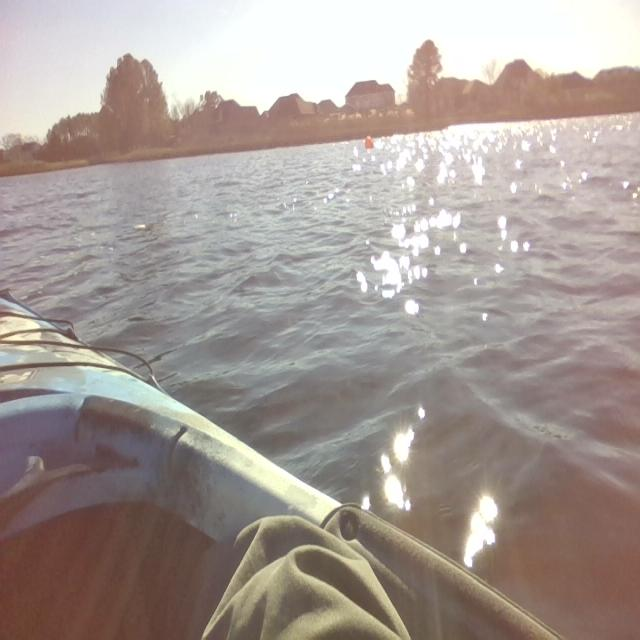Buoy: (362, 131, 377, 157)
